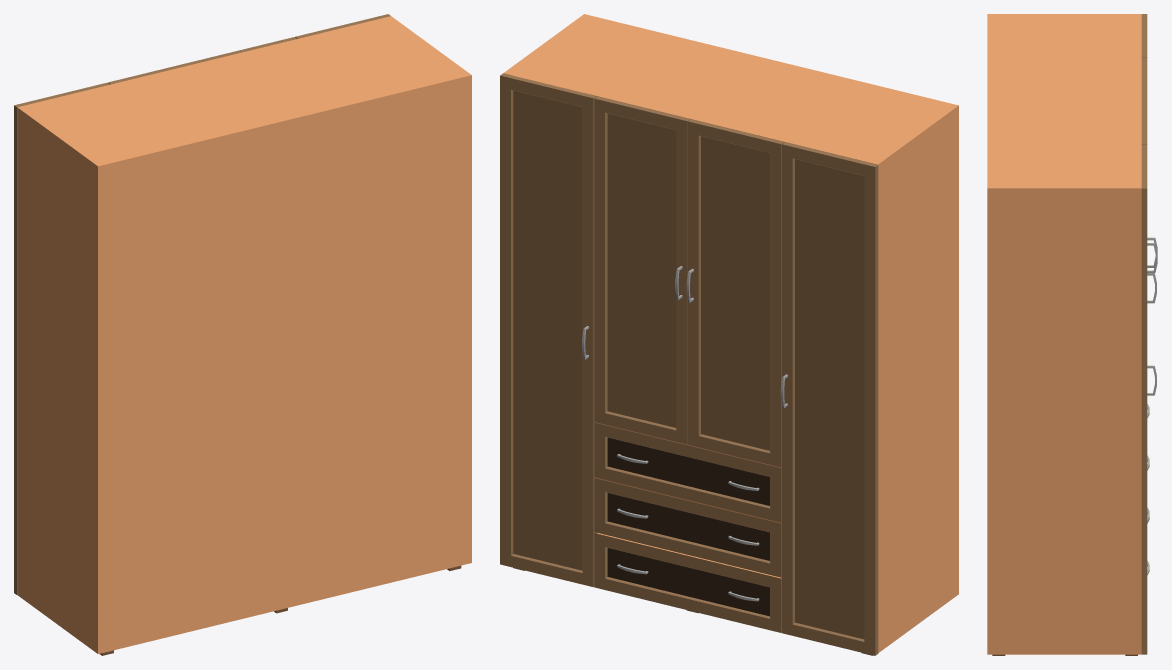
The model's file is cabinet_1.FBX.
3 renders of one model, left to right at view 1: azimuth 30°, elevation 25°; view 2: azimuth 150°, elevation 25°; view 3: azimuth 270°, elevation 25°, orthographic. The views are drawn at different scales.
Parts seen in each view (by area): view 1: cabinet_1; view 2: cabinet_1; view 3: cabinet_1.
Part boxes in pixels (x1,y1,x2,y2): cabinet_1: (14,14,471,655); cabinet_1: (500,14,958,655); cabinet_1: (987,14,1157,655).
Size of the model in its own units: 1.61 by 2.02 by 0.6629.
